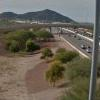Tree: (10, 21, 57, 60)
